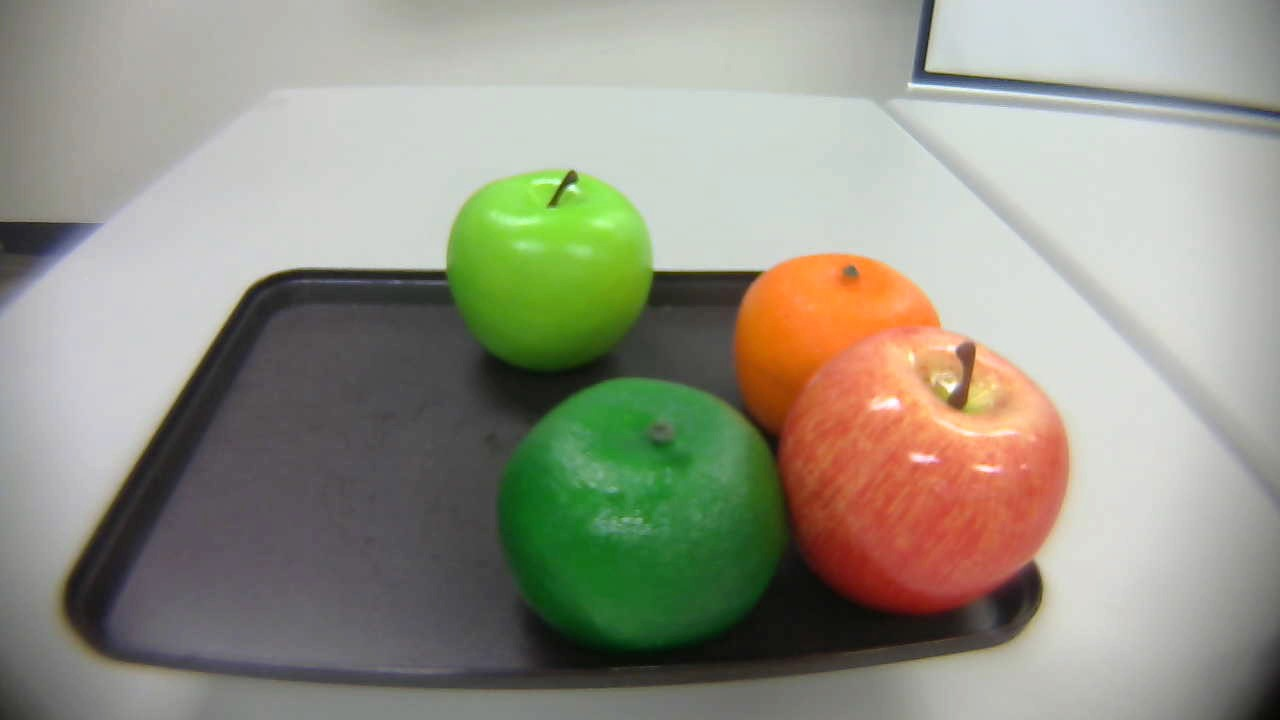green apple: (431, 156, 667, 386)
green orange: (484, 379, 789, 650)
orange: (718, 250, 955, 426)
red apple: (773, 329, 1078, 616)
